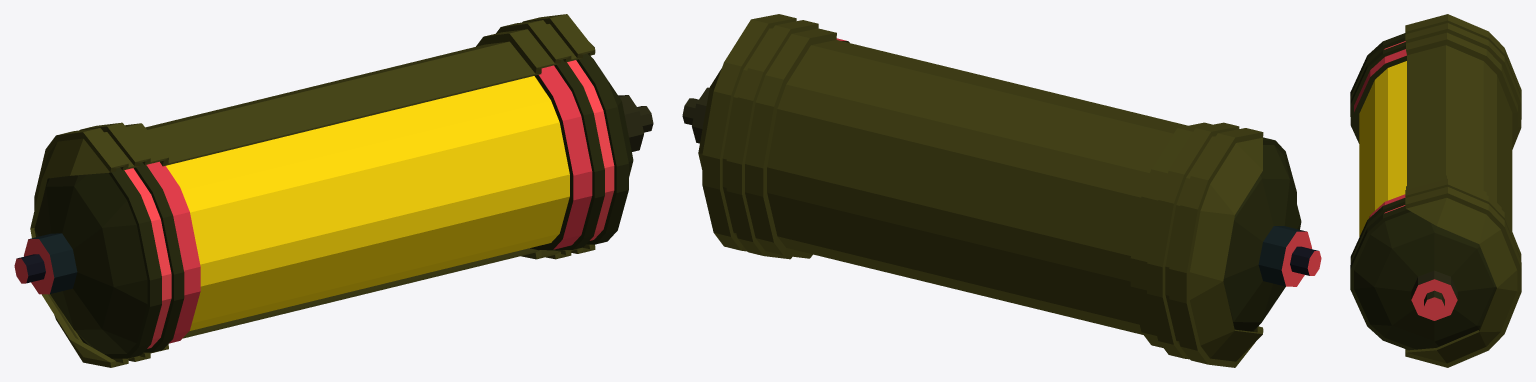
File: EnergenicCircuitMatrix.fbx
The picture shows the model from 3 angles, left to right: view 1: azimuth 30°, elevation 25°; view 2: azimuth 150°, elevation 25°; view 3: azimuth 270°, elevation 25°; orthographic projection. The views are drawn at different scales.
Visible parts, largest first — view 1: EnergenicCircuitMatrix, EnergenicCircuitMatrixShell; view 2: EnergenicCircuitMatrixShell, EnergenicCircuitMatrix; view 3: EnergenicCircuitMatrixShell, EnergenicCircuitMatrix.
Boxes of the visible parts, <box> form: EnergenicCircuitMatrix: <box>14,53,653,358</box>; EnergenicCircuitMatrixShell: <box>30,14,595,367</box>; EnergenicCircuitMatrixShell: <box>698,14,1263,367</box>; EnergenicCircuitMatrix: <box>682,38,1321,331</box>; EnergenicCircuitMatrixShell: <box>1405,14,1521,367</box>; EnergenicCircuitMatrix: <box>1350,33,1496,350</box>.
Size of the model in its own units: 81.23 by 28.61 by 25.39.
